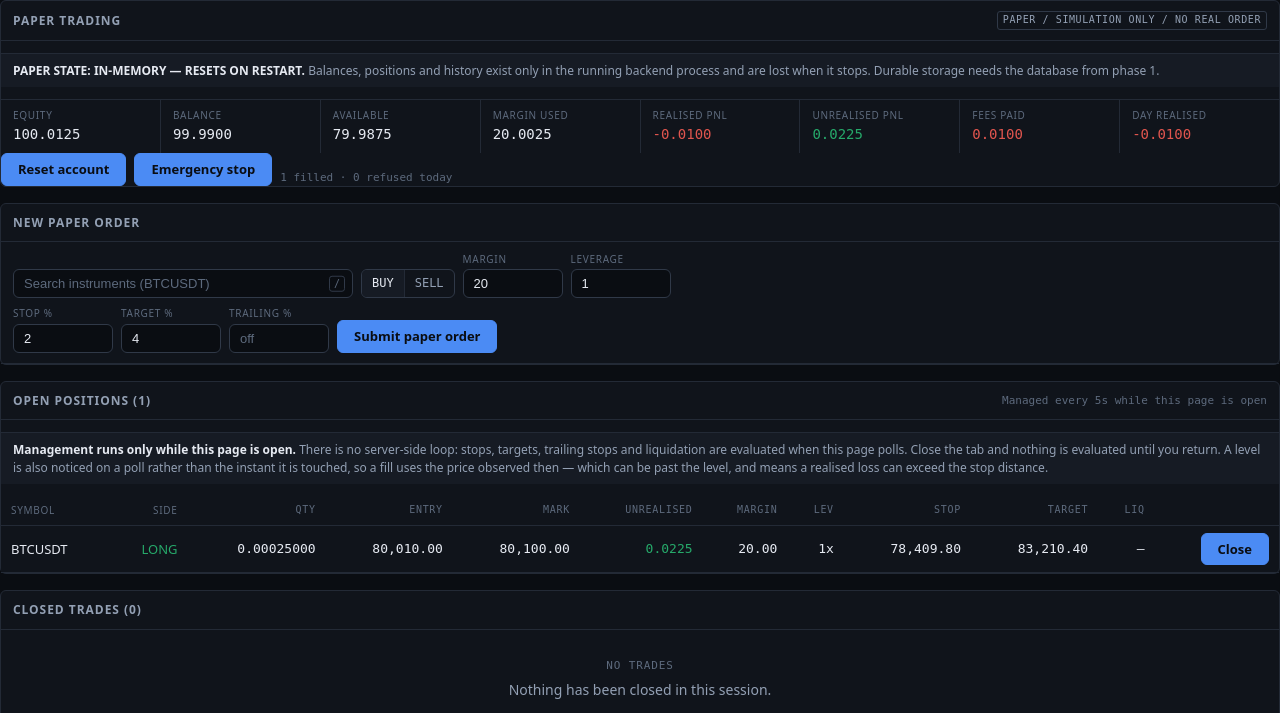
Test: PaperPage › renders a refusal as prominently as a fill, with its code
Expected: the text "Equity" is shown, left=13, top=108, right=52, bottom=122
Click the button "Submit paper order": click(417, 336) left=337, top=320, right=498, bottom=353
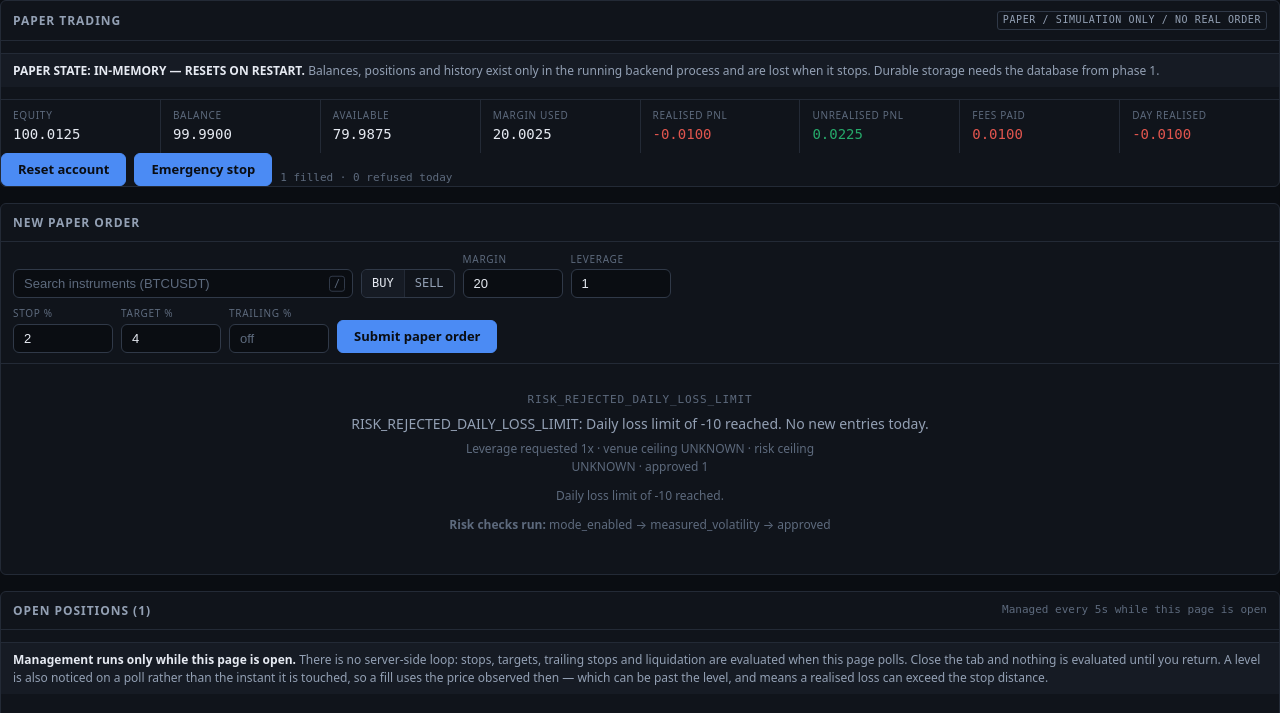
Expected: the text "No new entries today" is shown, left=351, top=414, right=929, bottom=433
